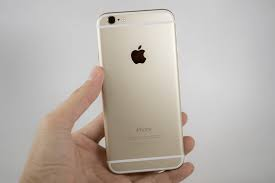iphone: (92, 8, 183, 177)
iphone6: (92, 8, 183, 177)
